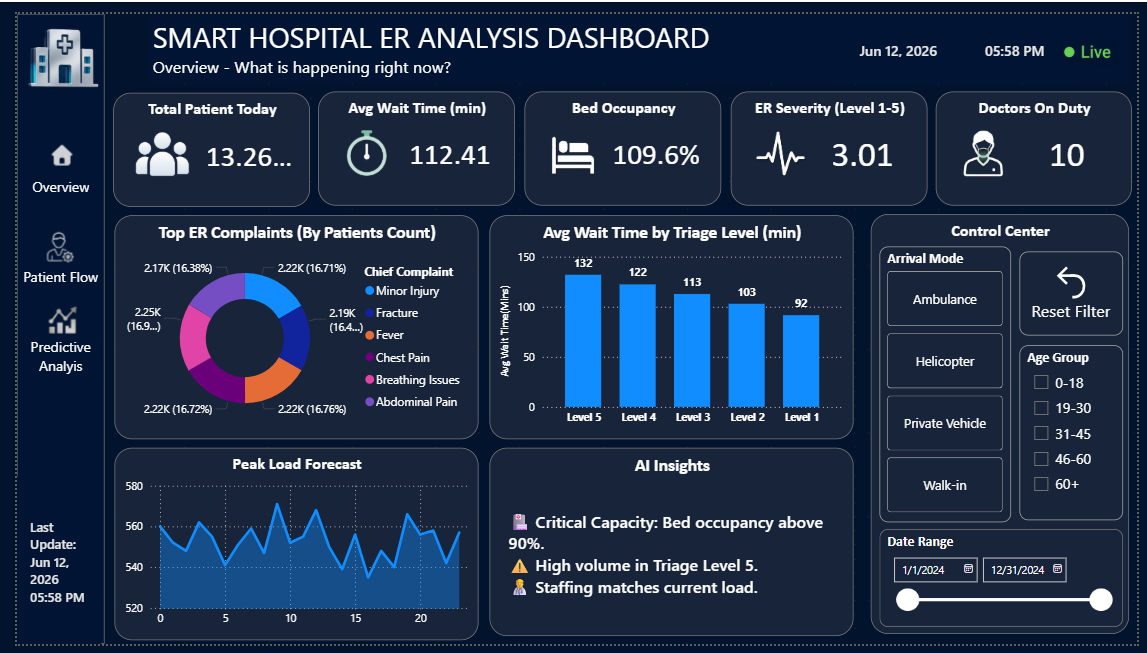

The dashboard page shown, as its layout file describes it:
{"tool":"powerbi","page":{"name":"Overview","canvas":[1280,720],"ordinal":0},"visuals":[{"type":"textbox","box":[150,0,1121.4,78.6],"z":0},{"type":"shape","box":[0,0,100,720],"z":1000},{"type":"actionButton","box":[0,320,100,100],"z":2000},{"type":"cardVisual","title":"Total Patient Today","fields":{"Data":["CountNonNull(Smart_Hospital_ER_Analytics_for_PBI.Patient_ID)"]},"box":[110,90,225,130],"z":3000},{"type":"cardVisual","title":"Avg Wait Time (min)","fields":{"Data":["Smart_Hospital_ER_Analytics_for_PBI.Average Wait Time"]},"box":[345,89,225,130],"z":4000},{"type":"cardVisual","title":"Bed Occupancy","fields":{"Data":["Smart_Hospital_ER_Analytics_for_PBI.Bed Occupancy % (card 4)"]},"box":[580,89,225,130],"z":5000},{"type":"donutChart","title":"Top ER Complaints (By Patients Count)","fields":{"Category":["Smart_Hospital_ER_Analytics_for_PBI.Chief_Complaint"],"Y":["CountNonNull(Smart_Hospital_ER_Analytics_for_PBI.Patient_ID)"]},"box":[112,230,416,256],"z":6000},{"type":"clusteredColumnChart","title":"Avg Wait Time by Triage Level (min)","fields":{"Y":["Avg(Smart_Hospital_ER_Analytics_for_PBI.Wait_Time_Minutes)"],"Category":["Smart_Hospital_ER_Analytics_for_PBI.Triage Display"]},"box":[540,230,416,256],"z":7000},{"type":"actionButton","box":[0,224,100,100],"z":8000},{"type":"actionButton","box":[0,121.7,100,100],"z":9000},{"type":"image","box":[0,0,100,100],"z":10000},{"type":"cardVisual","fields":{"Data":["Smart_Hospital_ER_Analytics_for_PBI.Last Update","Smart_Hospital_ER_Analytics_for_PBI.Last Update yr"]},"box":[936,0,276,80],"z":11000},{"type":"shape","box":[0,512,96,48],"z":12000},{"type":"cardVisual","fields":{"Data":["Smart_Hospital_ER_Analytics_for_PBI.Last Refresh Display"]},"box":[0,528,96,192],"z":13000},{"type":"image","box":[1178,28,94,32],"z":14000},{"type":"textbox","box":[868.9,163,60,36.7],"z":15000},{"type":"cardVisual","title":"Doctors On Duty","fields":{"Data":["Smart_Hospital_ER_Analytics_for_PBI.Doctors on Shift"]},"box":[1050,89,224,130],"z":16000},{"type":"cardVisual","title":"ER Severity (Level 1-5)","fields":{"Data":["Smart_Hospital_ER_Analytics_for_PBI.Avg ER Severity"]},"box":[815,89,225,130],"z":17000},{"type":"areaChart","title":"Peak Load Forecast","fields":{"Category":["Smart_Hospital_ER_Analytics_for_PBI.Arrival Hour"],"Y":["CountNonNull(Smart_Hospital_ER_Analytics_for_PBI.Patient_ID)"]},"box":[112,496,416,220],"z":18000},{"type":"cardVisual","title":"AI Insights","fields":{"Data":["Smart_Hospital_ER_Analytics_for_PBI.Detailed AI Insights"]},"box":[540,496,416,215],"z":19000},{"type":"shape","title":"Control Center","box":[976,228,295,480],"z":20000},{"type":"slicer","title":"Date Range","fields":{"Values":["Calendar.Date"]},"box":[985,588,278,112],"z":21000},{"type":"advancedSlicerVisual","title":"Arrival Mode","fields":{"Values":["Smart_Hospital_ER_Analytics_for_PBI.Arrival_Mode"]},"box":[985,265,150,315],"z":22000},{"type":"slicer","title":"Age Group","fields":{"Values":["Smart_Hospital_ER_Analytics_for_PBI.Age Group"]},"box":[1145,378,118,200],"z":23000},{"type":"actionButton","box":[1145,272,118,96],"z":24000}]}

Visuals, with their boxes in screenshot pixels (x1, y1, x2, y2), scaled from the page's 1280x720 canvas onto the 1147x653 screenshot:
textbox: (134,0,1139,71)
shape: (0,0,90,652)
actionButton: (0,290,90,381)
"Total Patient Today" cardVisual: (99,82,300,200)
"Avg Wait Time (min)" cardVisual: (309,81,511,199)
"Bed Occupancy" cardVisual: (520,81,721,199)
"Top ER Complaints (By Patients Count)" donutChart: (100,209,473,441)
"Avg Wait Time by Triage Level (min)" clusteredColumnChart: (484,209,857,441)
actionButton: (0,203,90,294)
actionButton: (0,110,90,201)
image: (0,0,90,91)
cardVisual - Smart_Hospital_ER_Analytics_for_PBI.Last Update x Smart_Hospital_ER_Analytics_for_PBI.Last Update yr: (839,0,1086,73)
shape: (0,464,86,508)
cardVisual - Smart_Hospital_ER_Analytics_for_PBI.Last Refresh Display: (0,479,86,652)
image: (1056,25,1140,54)
textbox: (779,148,832,181)
"Doctors On Duty" cardVisual: (941,81,1142,199)
"ER Severity (Level 1-5)" cardVisual: (730,81,932,199)
"Peak Load Forecast" areaChart: (100,450,473,649)
"AI Insights" cardVisual: (484,450,857,645)
"Control Center" shape: (875,207,1139,642)
"Date Range" slicer: (883,533,1132,635)
"Arrival Mode" advancedSlicerVisual: (883,240,1017,526)
"Age Group" slicer: (1026,343,1132,524)
actionButton: (1026,247,1132,334)
